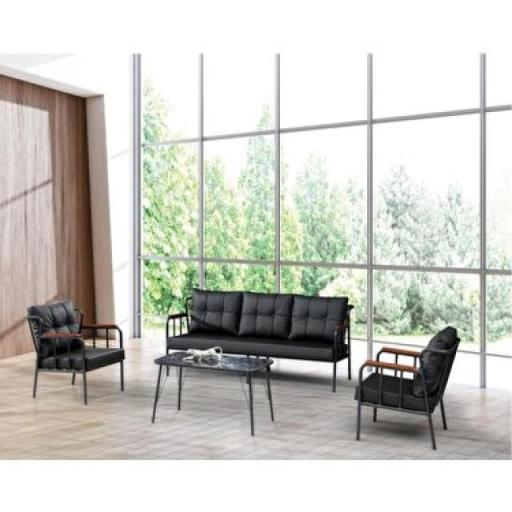sofa: (165, 267, 359, 389), (376, 324, 512, 479), (18, 282, 148, 424)
